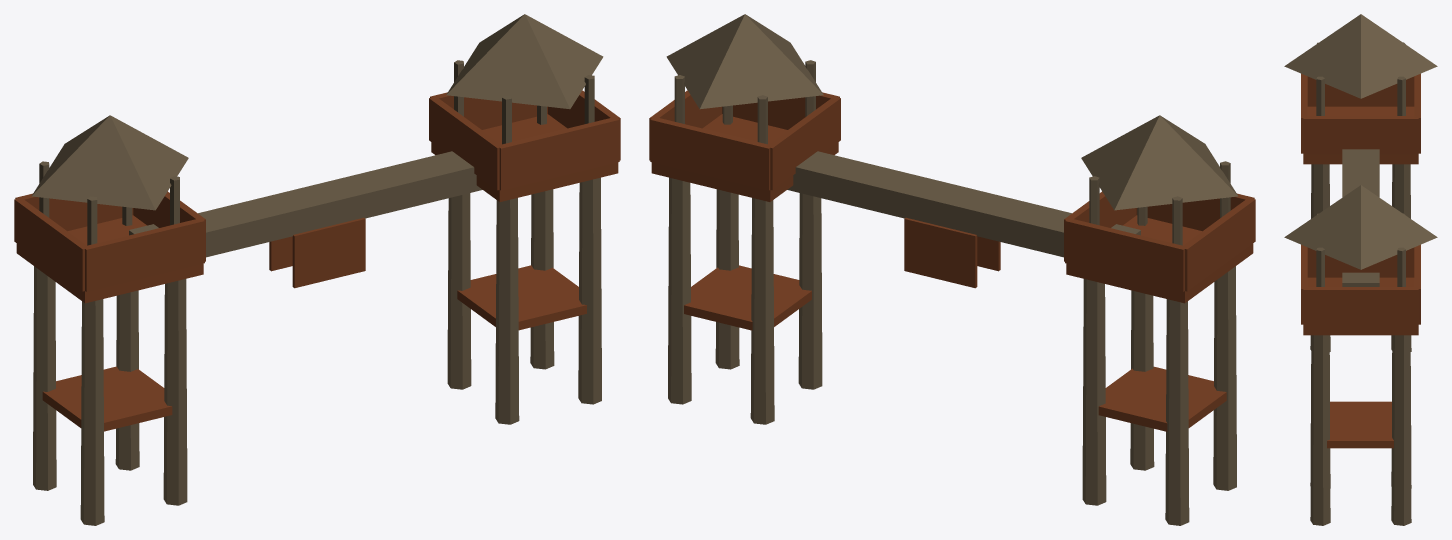
File: ratfolk_gate.glb
The picture shows the model from 3 angles, left to right: view 1: azimuth 30°, elevation 25°; view 2: azimuth 150°, elevation 25°; view 3: azimuth 270°, elevation 25°; orthographic projection. The views are drawn at different scales.
Visible parts, largest first — view 1: ratfolk_gate; view 2: ratfolk_gate; view 3: ratfolk_gate.
Boxes of the visible parts, x1,y1,x2,y2 form: ratfolk_gate: (14, 14, 620, 525); ratfolk_gate: (649, 14, 1255, 525); ratfolk_gate: (1284, 14, 1437, 525).
Bounding box in the file's own units: 4.83 × 3.05 × 1.33.
